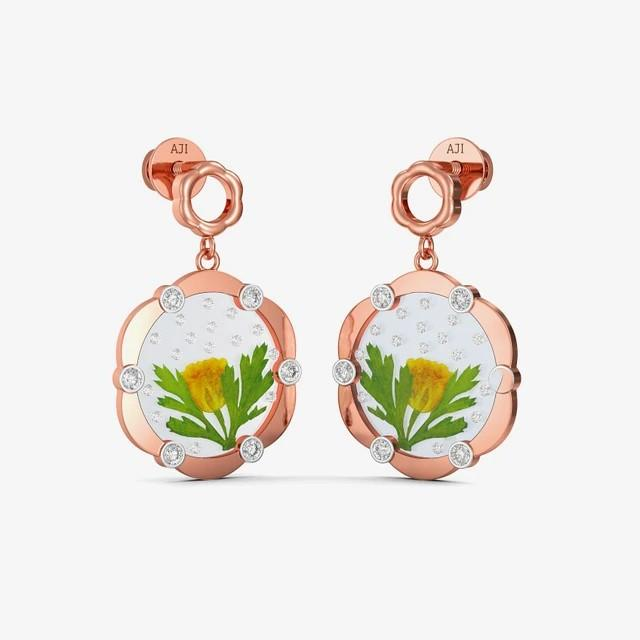missing gem: (491, 368, 512, 392)
